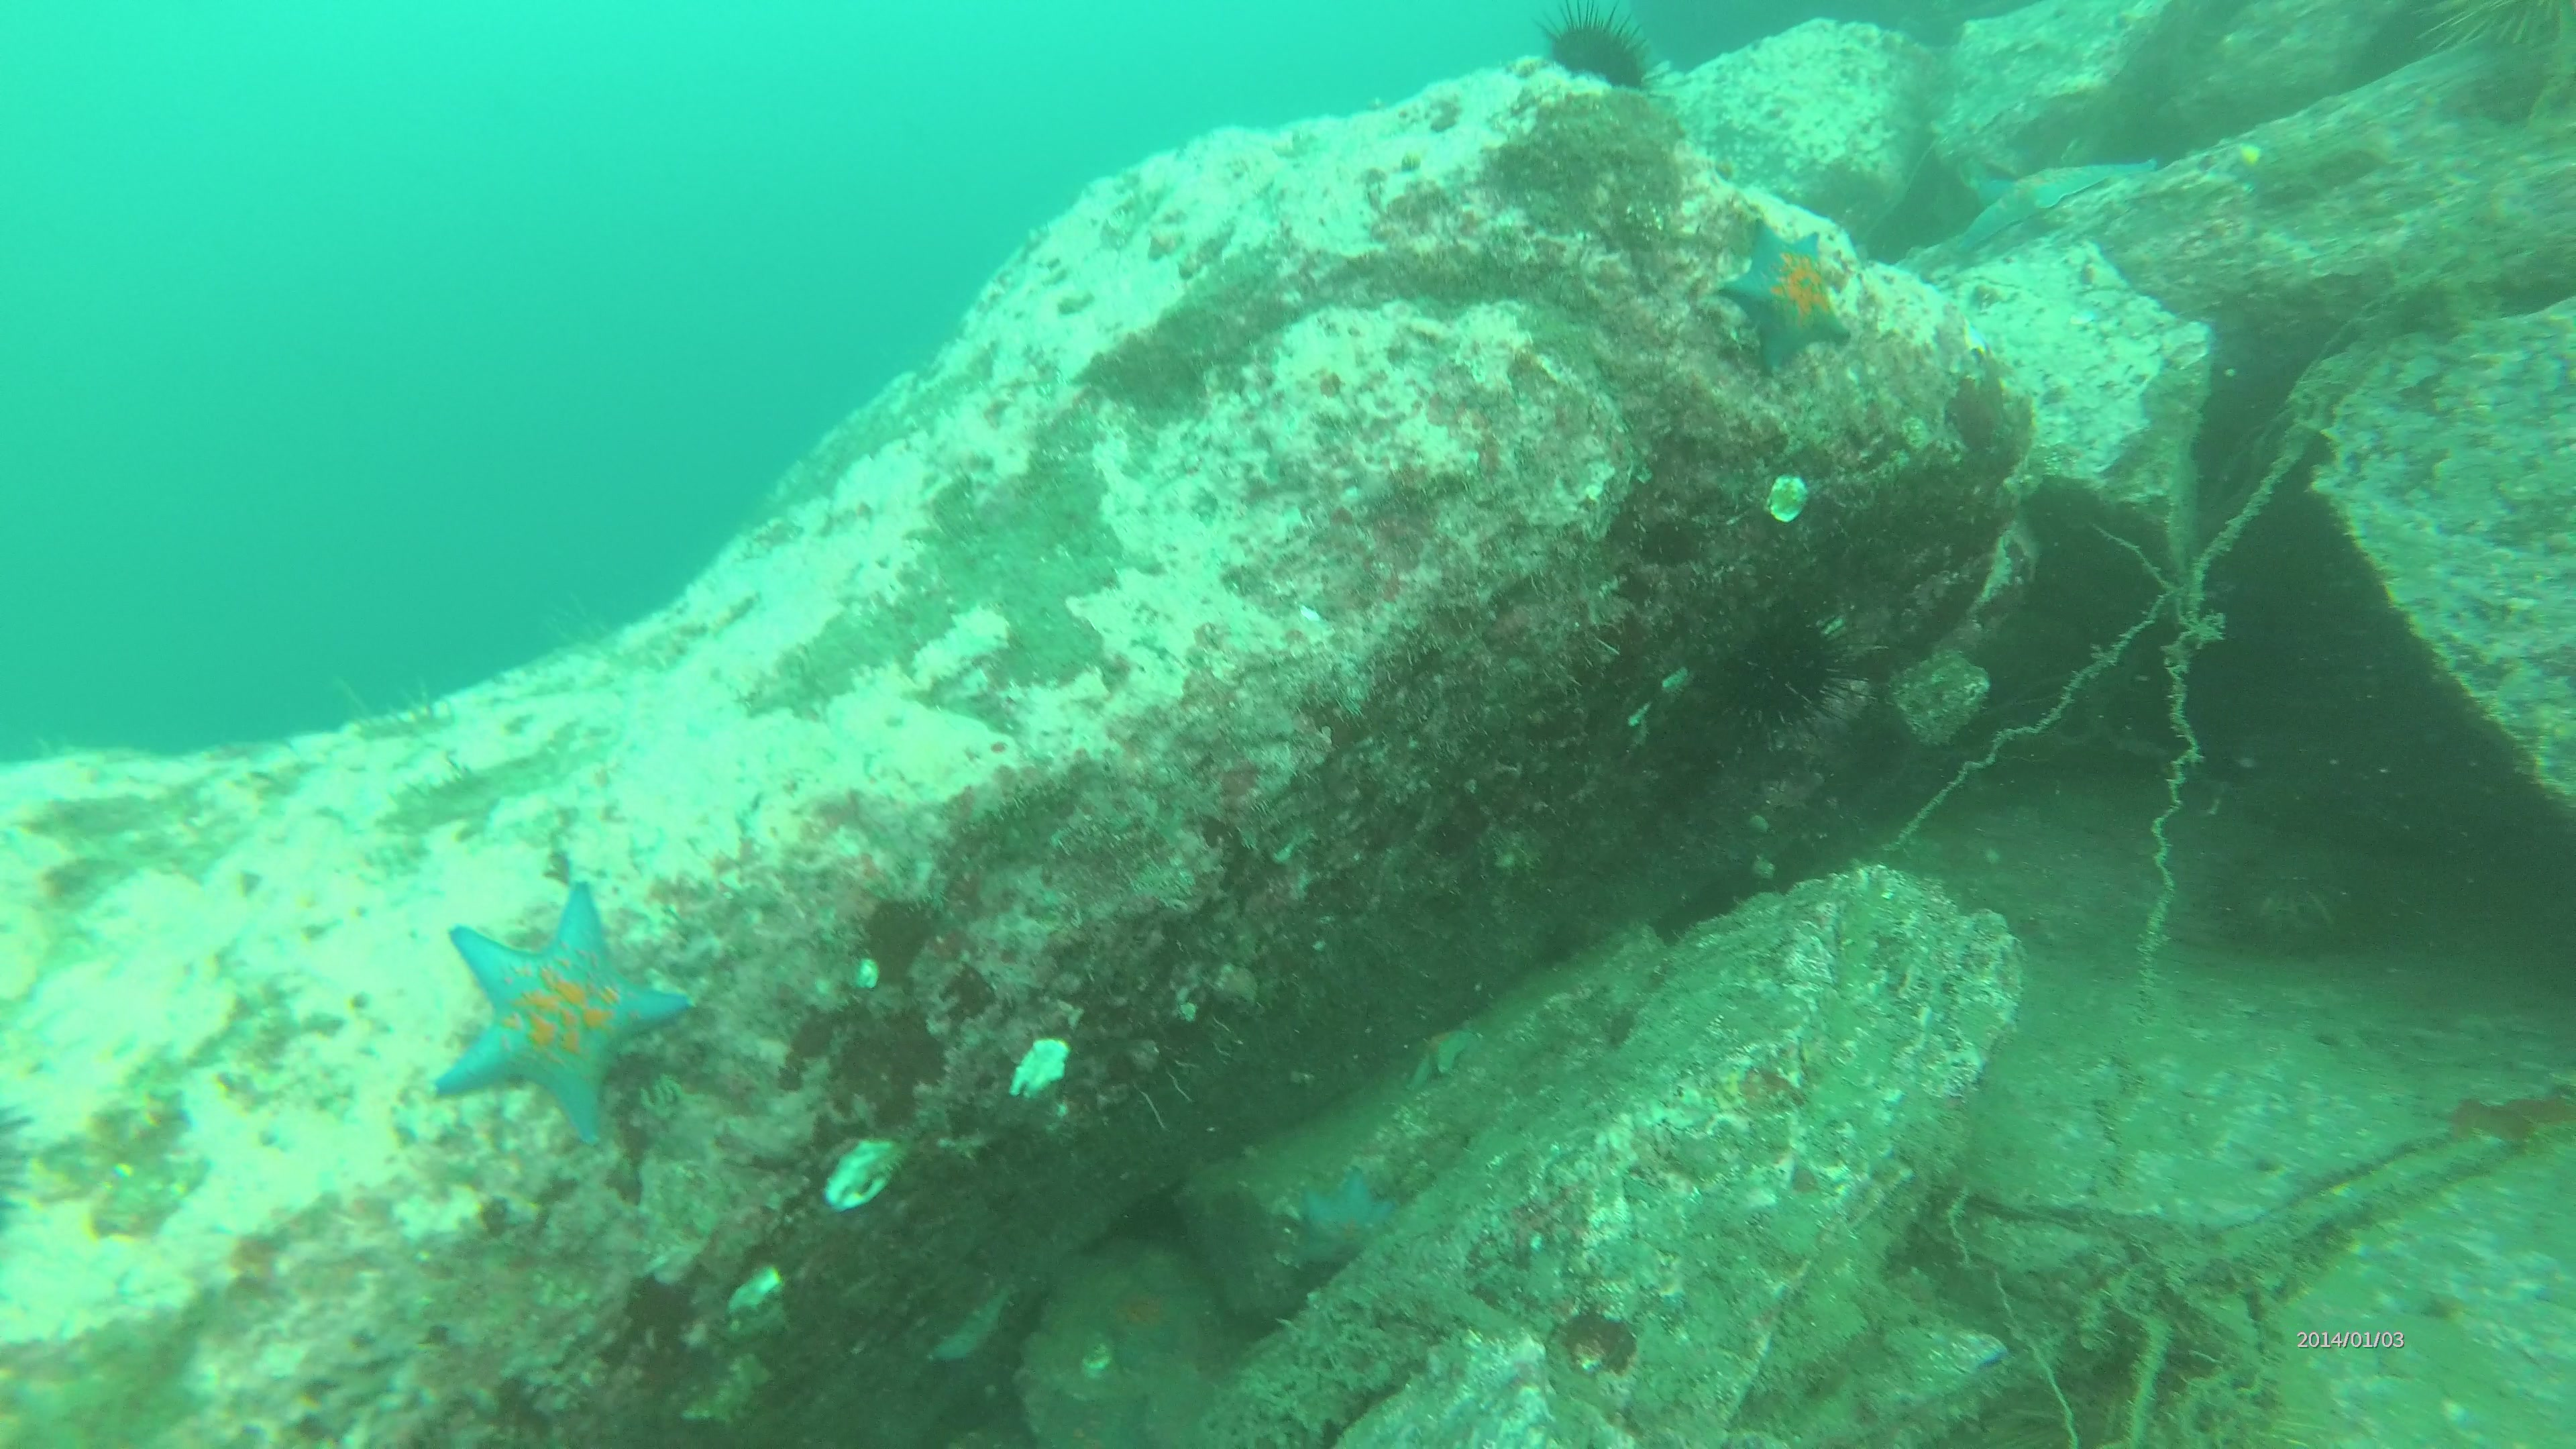echinus: (1688, 591, 1867, 752), (1534, 0, 1681, 106), (1536, 0, 1654, 99)
starfish: (437, 895, 699, 1154), (1721, 219, 1859, 382), (1295, 1166, 1394, 1276), (1095, 1274, 1201, 1368)
